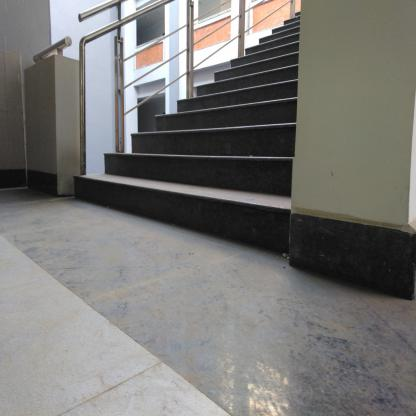stairs: (199, 82, 288, 260)
